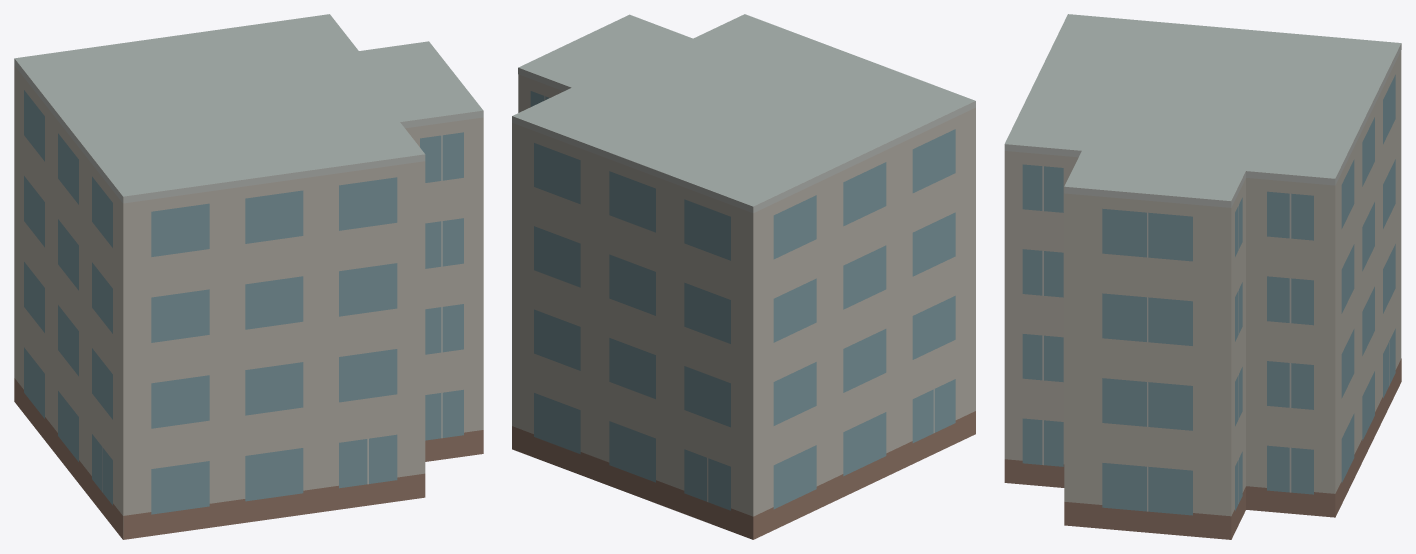
Rendered from residential-1184a775-7390-4ecc-a5cc-f98be5456034.glb.
3 views of the same model, side by side, from view 1: azimuth 30°, elevation 25°; view 2: azimuth 150°, elevation 25°; view 3: azimuth 270°, elevation 25° (orthographic). The views are drawn at different scales.
Parts seen in each view (by area): view 1: residential-1184a775-7390-4ecc-a5cc-f98be5456034.tmp; view 2: residential-1184a775-7390-4ecc-a5cc-f98be5456034.tmp; view 3: residential-1184a775-7390-4ecc-a5cc-f98be5456034.tmp.
Part boxes in pixels (x1,y1,x2,y2): residential-1184a775-7390-4ecc-a5cc-f98be5456034.tmp: (14,14,483,539); residential-1184a775-7390-4ecc-a5cc-f98be5456034.tmp: (512,14,975,539); residential-1184a775-7390-4ecc-a5cc-f98be5456034.tmp: (1004,14,1401,539).
Bounding box in the file's own units: 14.47 × 12.2 × 12.97.
